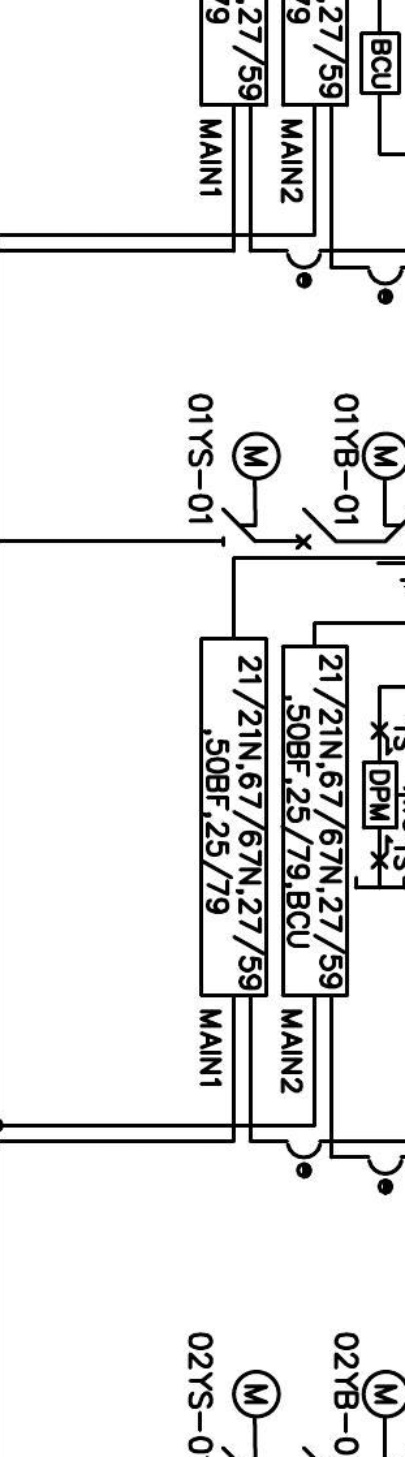115_1way_ds_w_motor: (221, 430, 282, 549)
115_breaker: (295, 507, 338, 550)
BCU: (359, 30, 402, 96)
DPM: (361, 760, 399, 830)
